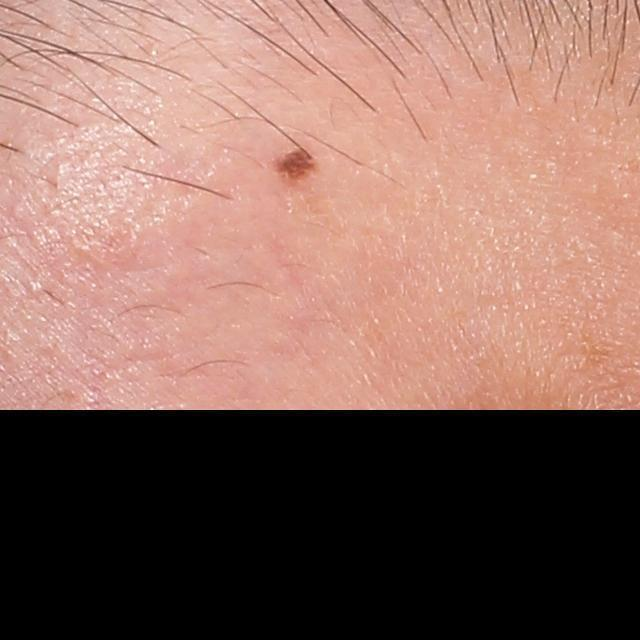nevus: (263, 139, 324, 187)
